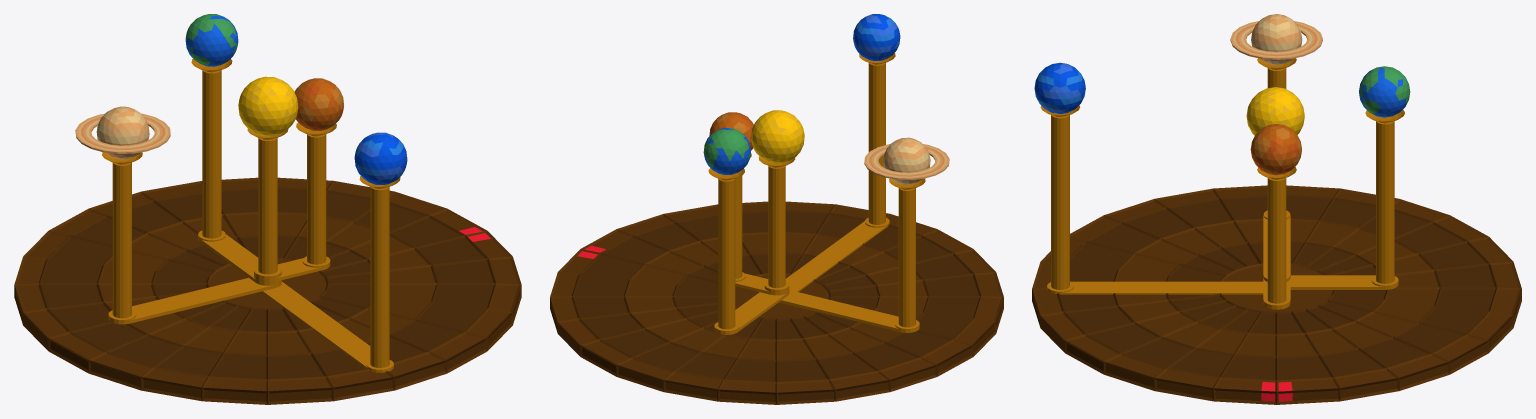
Rendered from SolarSystemExp.fbx.
3 renders of one model, left to right at view 1: azimuth 30°, elevation 25°; view 2: azimuth 150°, elevation 25°; view 3: azimuth 270°, elevation 25°, orthographic. The views are drawn at different scales.
Parts seen in each view (by area): view 1: Platte, Platte_Textur, Stick_Large, Stick_Middle_Long, Stick_Middle_Short, Stick_Small, Saturn, Sun_holder, Erde, Neptun, Mars, Sun_upperHalf (+1 smaller); view 2: Platte, Platte_Textur, Stick_Large, Stick_Middle_Long, Stick_Middle_Short, Saturn, Sun_holder, Neptun, Erde, Sun_upperHalf, Stick_Small, Mars (+1 smaller); view 3: Platte, Platte_Textur, Stick_Large, Stick_Middle_Short, Saturn, Stick_Small, Mars, Erde, Neptun, Sun_upperHalf, Stick_Middle_Long.
Part boxes in pixels (x1,y1,x2,y2): Platte: (16,180,519,401); Platte_Textur: (14,177,521,404); Stick_Large: (261,176,400,372); Stick_Middle_Long: (102,152,281,324); Stick_Middle_Short: (191,59,281,285); Stick_Small: (254,122,336,282); Saturn: (75,106,170,159); Sun_holder: (247,129,288,279); Erde: (185,14,238,66); Neptun: (354,132,407,184); Mars: (294,78,343,130); Sun_upperHalf: (238,76,298,119); Platte: (551,203,1002,401); Platte_Textur: (550,201,1003,404); Stick_Large: (785,53,895,291); Stick_Middle_Long: (779,178,925,332); Stick_Middle_Short: (708,168,789,334); Saturn: (864,137,949,184); Sun_holder: (758,156,795,292); Neptun: (853,14,900,60); Erde: (703,128,750,174); Sun_upperHalf: (751,110,804,148); Stick_Small: (735,153,789,295); Mars: (709,112,753,150); Platte: (1033,187,1520,401); Platte_Textur: (1032,185,1521,404); Stick_Large: (1040,105,1263,294); Stick_Middle_Short: (1290,109,1404,289); Saturn: (1230,14,1322,65); Stick_Small: (1257,166,1296,309); Mars: (1250,124,1301,175); Erde: (1359,66,1410,117); Neptun: (1034,62,1085,113); Sun_upperHalf: (1246,87,1304,127); Stick_Middle_Long: (1257,58,1296,274).
Bounding box in the file's own units: 36.15 × 19.28 × 36.15.
